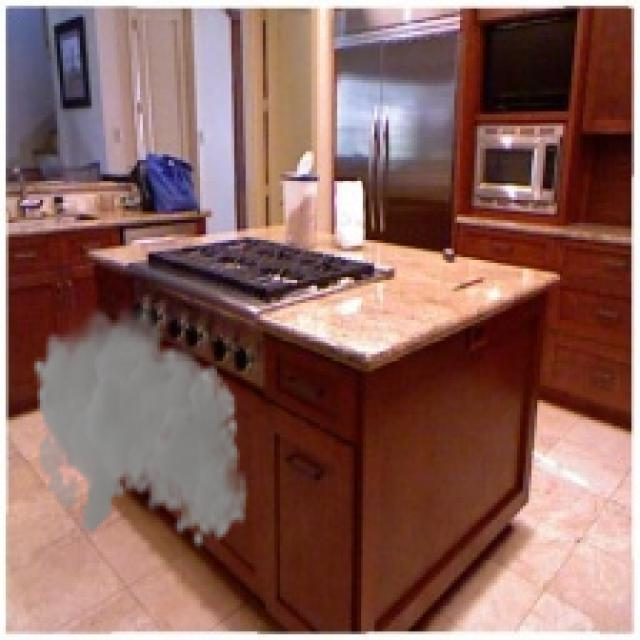Smoke: (32, 297, 248, 549)
